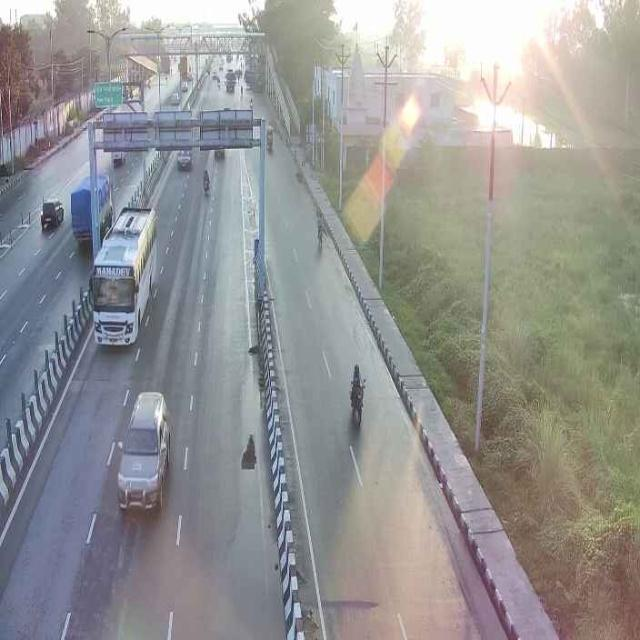car: (108, 385, 177, 521), (36, 193, 66, 232)
